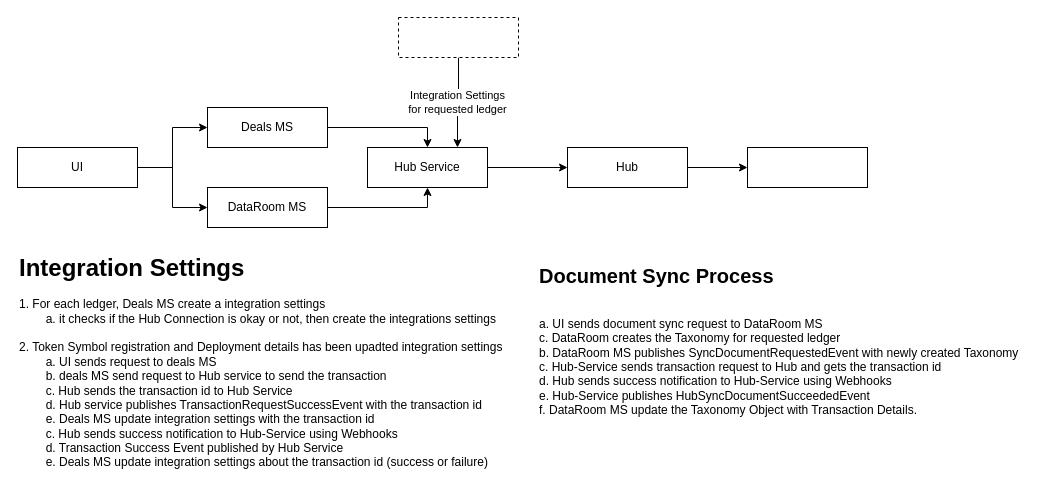
Image size: 1045x495. Some labels were removed from this diagram. The shapes that lost their labels are listed below. From the top down, each one's centre as x and y in pixels, then its label:
At pixel 458 37: "Vault".
At pixel 807 167: "Blockchain".
